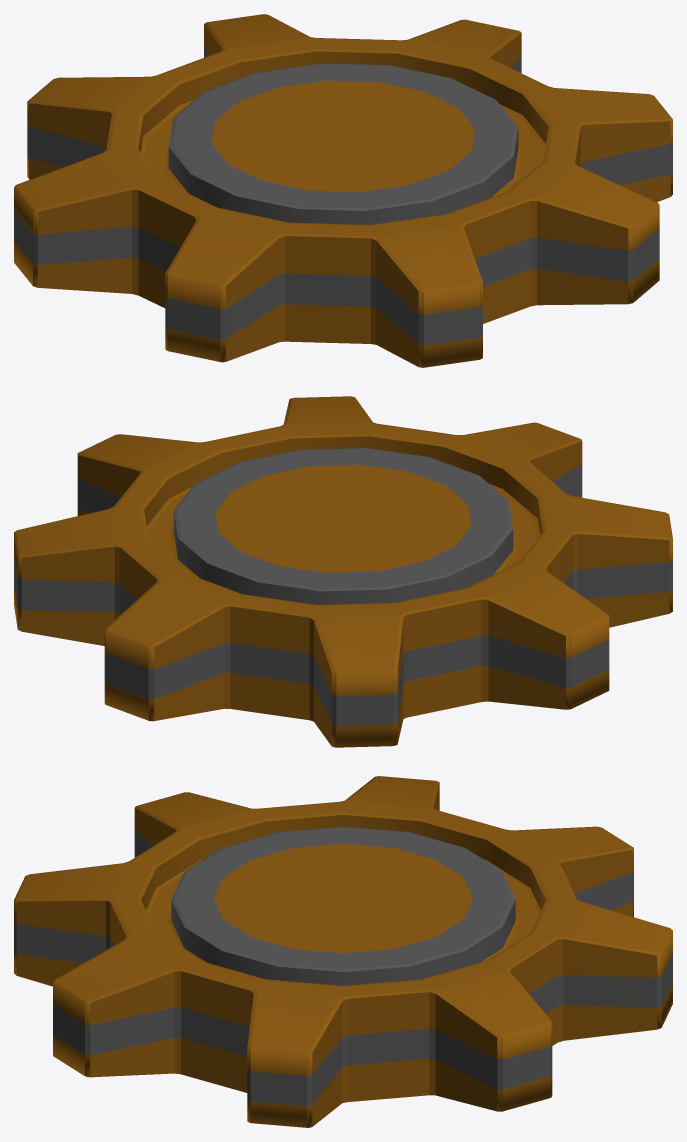
Rendered from CogWheel.fbx.
3 views of the same model, one above another, from view 1: azimuth 30°, elevation 25°; view 2: azimuth 150°, elevation 25°; view 3: azimuth 270°, elevation 25° (orthographic). The views are drawn at different scales.
Parts seen in each view (by area): view 1: Cylinder; view 2: Cylinder; view 3: Cylinder.
Boxes of the visible parts, x1,y1,x2,y2 form: Cylinder: (14,14,672,367); Cylinder: (14,396,672,747); Cylinder: (14,776,672,1127).
Bounding box in the file's own units: 282 × 50.43 × 282.
